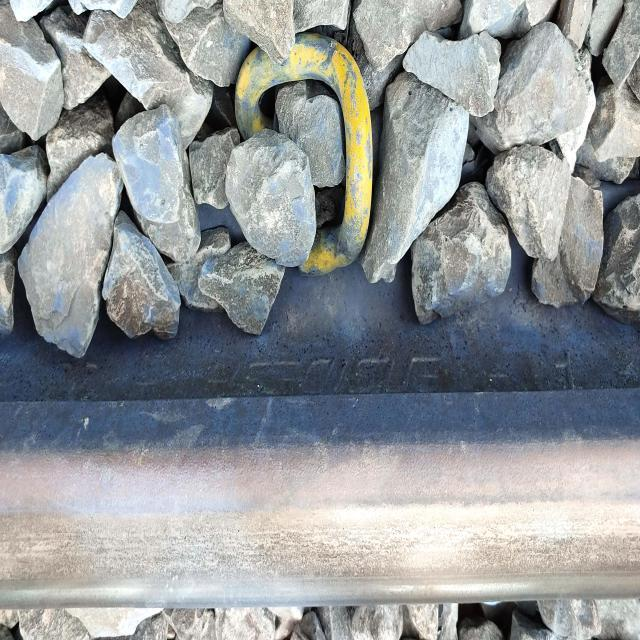Good Fasteners: (217, 25, 393, 309)
